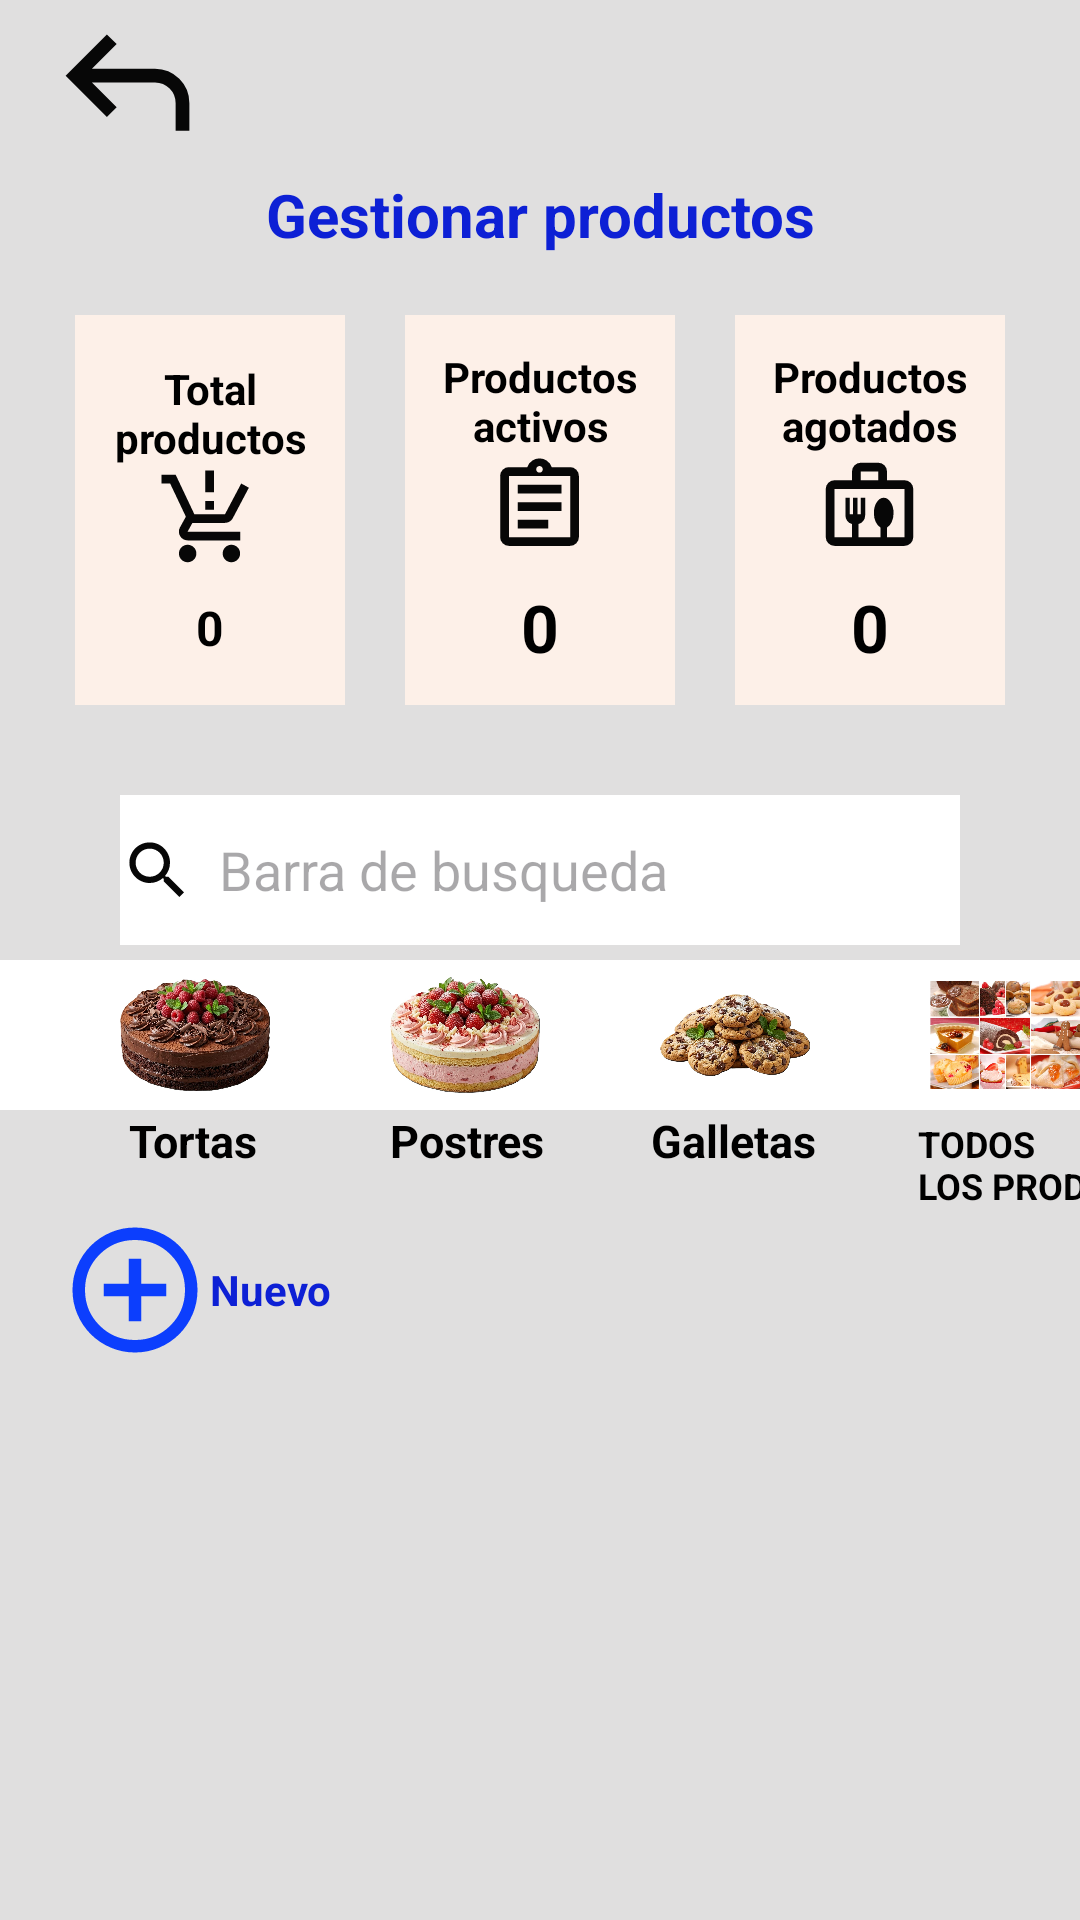

Named icons in this screenshot (1080 × 1920) and their centers, point (x, y):
agregar: point (135, 1290)
buscar: point (156, 869)
ordenes realizaadas: point (539, 502)
regresar: point (127, 82)
